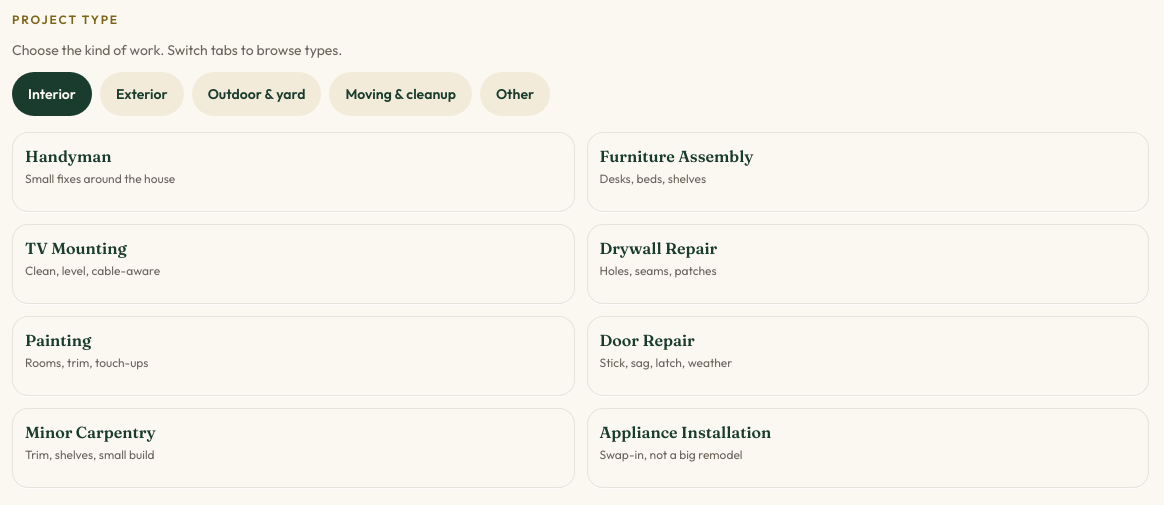
it: ProjectTypePicker › switches tabs and still saves the selected category id
The width and height of the screenshot is (1164, 505).
Click the tab "Exterior" at (142, 94), box [100,72,184,116]
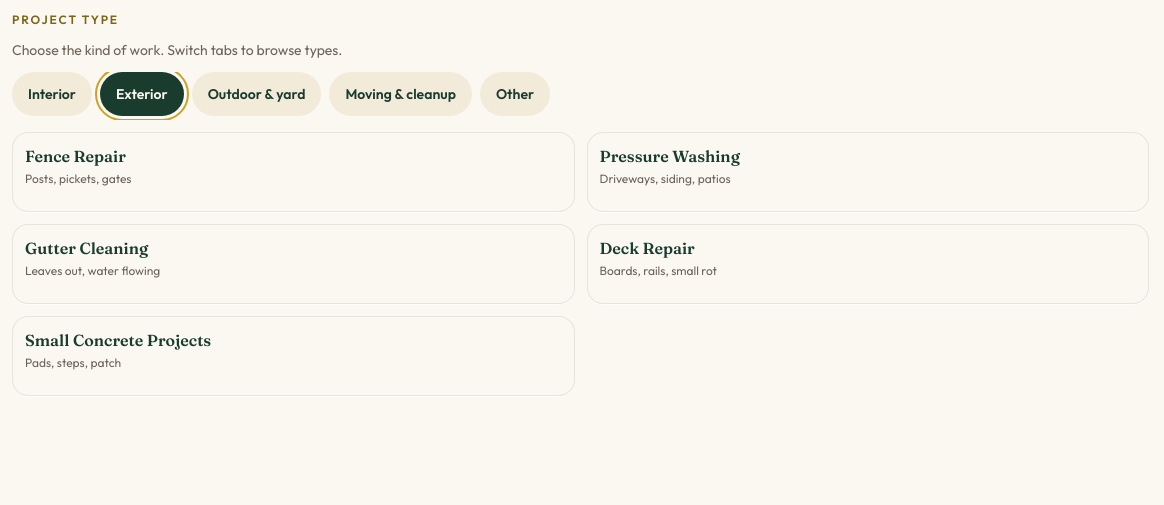
Expected: the tab "Exterior" is selected, [100,72,184,116]
Click the radio button labelled "Fence Repair Posts, pickets, gates" at (75, 156), box [12,132,574,212]
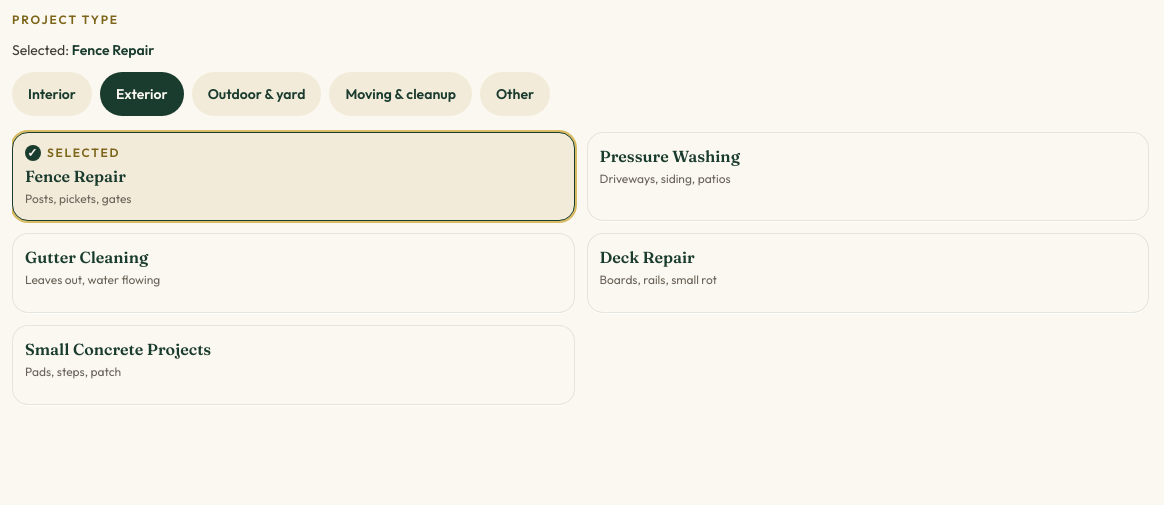
Expected: the radio button labelled "✓ Selected Fence Repair Posts, pickets, gates" is checked, [12,132,574,220]
Expected: the text "Selected: Fence Repair" is shown, [12,41,154,59]
